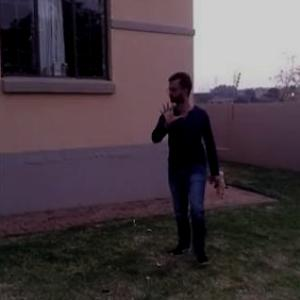follow_hand: (156, 96, 185, 126)
